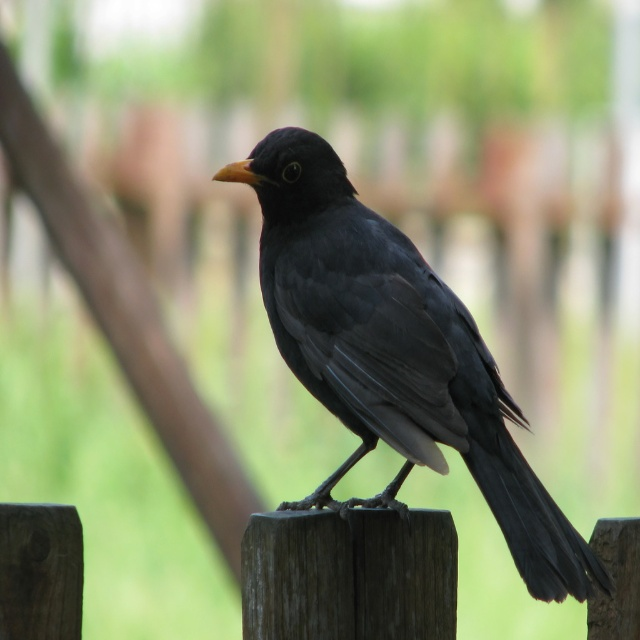Raven: (211, 126, 615, 604)
